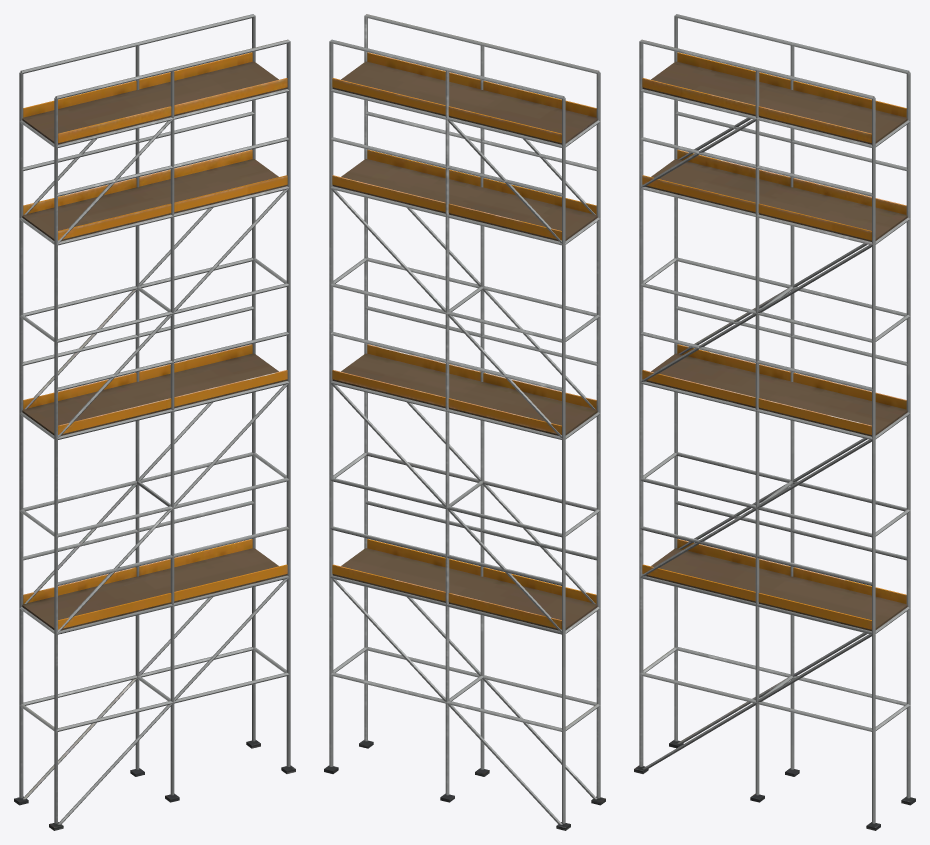
File: scaffold-M.glb
3 views of the same model, side by side, from view 1: azimuth 30°, elevation 25°; view 2: azimuth 150°, elevation 25°; view 3: azimuth 330°, elevation 25° (orthographic).
Parts seen in each view (by area): view 1: scaffold-M; view 2: scaffold-M; view 3: scaffold-M.
Part boxes in pixels (x1,y1,x2,y2): scaffold-M: (14,14,295,830); scaffold-M: (324,14,605,830); scaffold-M: (634,14,915,830).
Bounding box in the file's own units: 5.2 × 15.05 × 1.5.
Materials: 1 (1 with a texture image).
